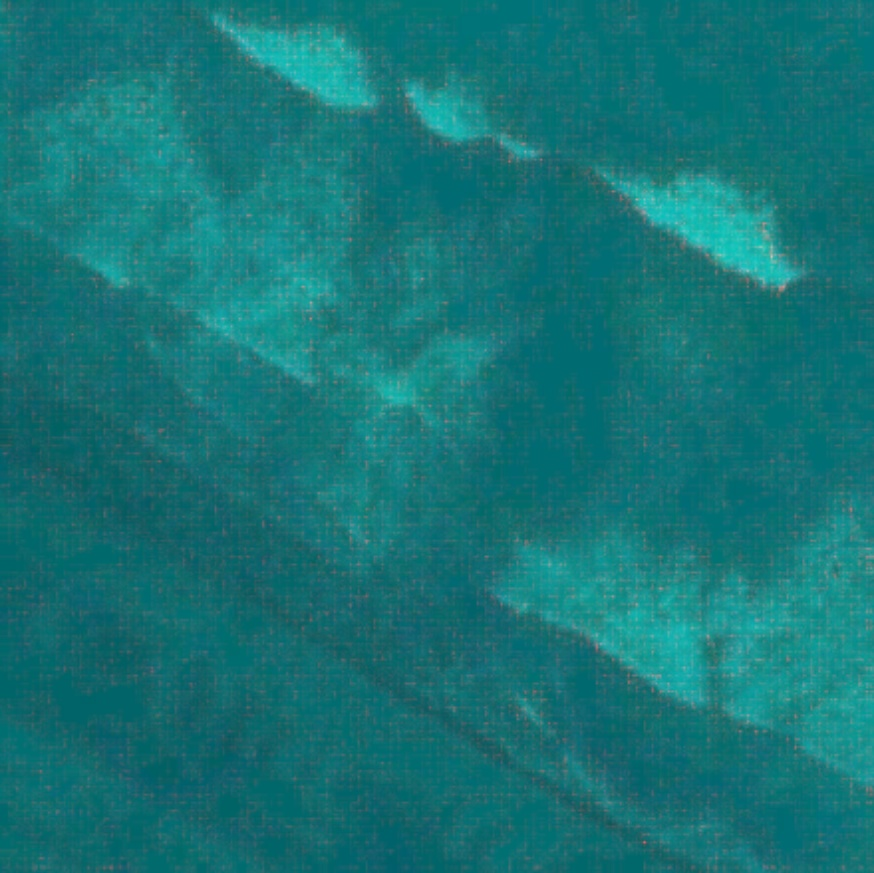rip_current: (356, 178, 677, 587)
